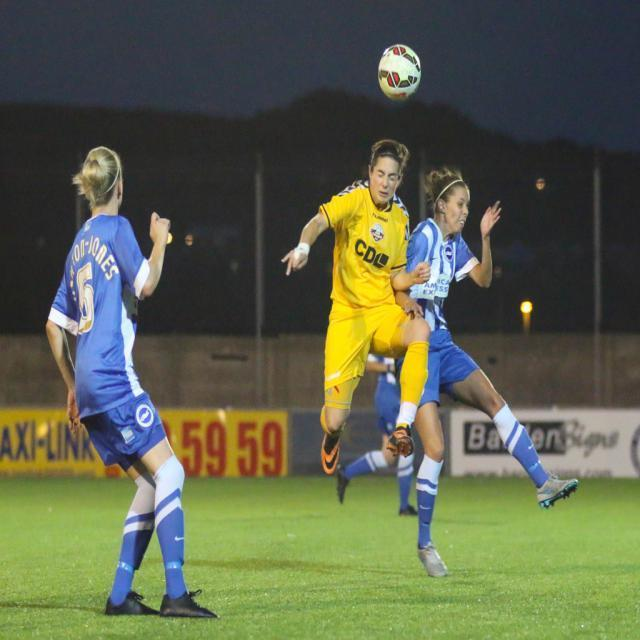football: (361, 31, 446, 101)
